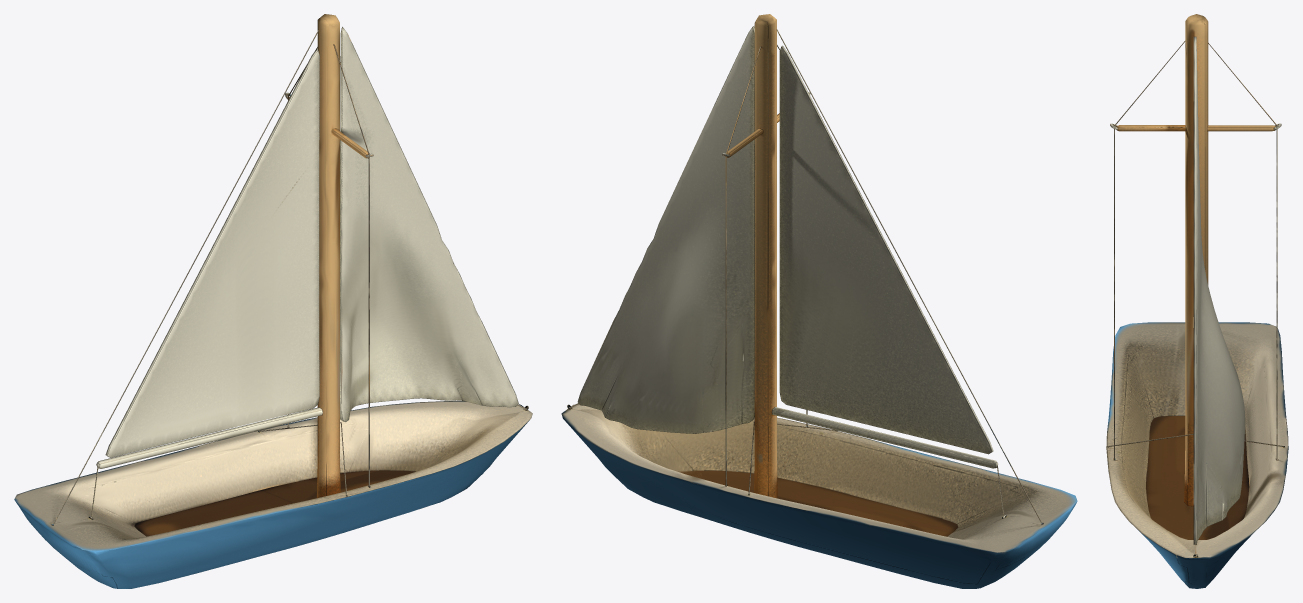
Rendered from sailboat.glb.
3 views of the same model, side by side, from view 1: azimuth 30°, elevation 25°; view 2: azimuth 150°, elevation 25°; view 3: azimuth 270°, elevation 25° (orthographic).
Parts seen in each view (by area): view 1: Object_3; view 2: Object_3; view 3: Object_3.
Part boxes in pixels (box(x1,y1,x2,y2)): Object_3: box(14, 14, 532, 588); Object_3: box(561, 14, 1077, 588); Object_3: box(1106, 14, 1288, 588).
Bounding box in the file's own units: 5.82 × 5.88 × 1.9.
1 material, 1 textured.
